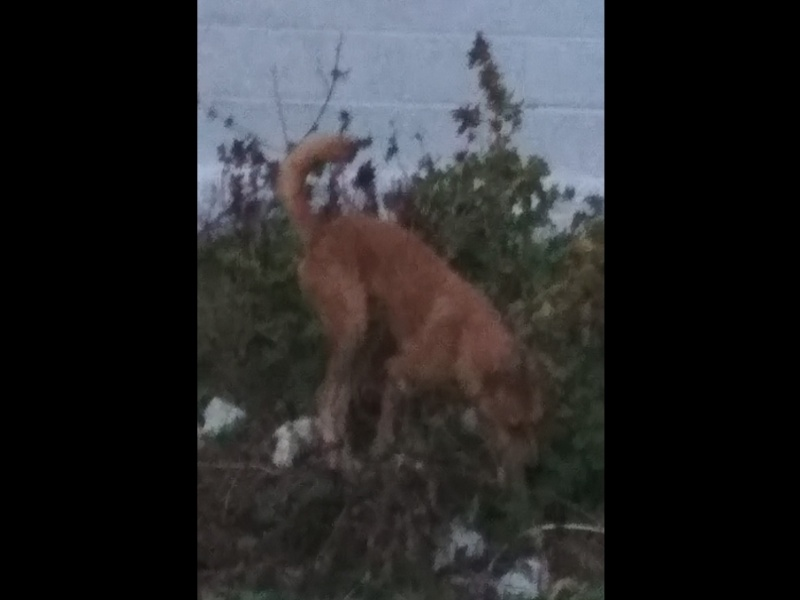dog: (277, 130, 545, 518)
